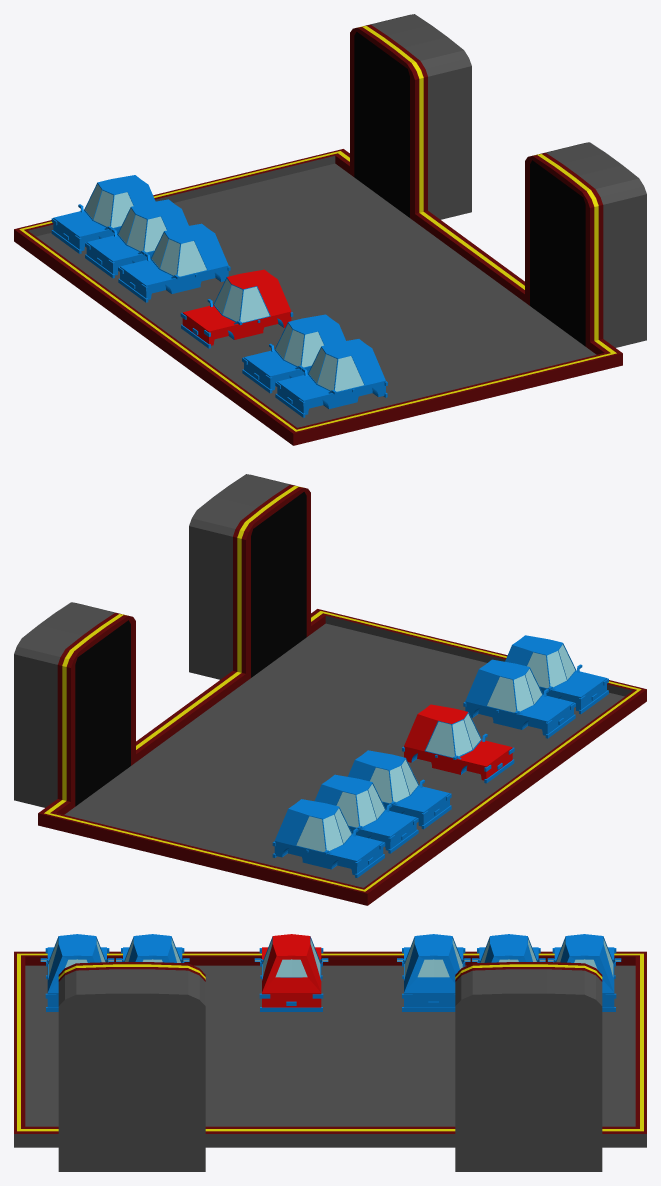
File: ParkingLot.fbx
3 renders of one model, top to bottom at view 1: azimuth 30°, elevation 25°; view 2: azimuth 150°, elevation 25°; view 3: azimuth 270°, elevation 25°, orthographic. The views are drawn at different scales.
Parts seen in each view (by area): view 1: Cube, Car.003, Car.002, Car.005, Car, Car.001, Car.004; view 2: Cube, Car, Car.005, Car.004, Car.001, Car.002, Car.003; view 3: Cube, Car.005, Car.002, Car, Car.003, Car.004, Car.001.
Boxes of the visible parts, x1,y1,x2,y2 form: Cube: [14, 14, 646, 445]; Car.003: [275, 339, 387, 417]; Car.002: [118, 223, 230, 302]; Car.005: [180, 269, 293, 348]; Car: [51, 175, 155, 253]; Car.001: [85, 199, 188, 278]; Car.004: [242, 314, 345, 393]; Cube: [14, 474, 646, 905]; Car: [272, 799, 385, 877]; Car.005: [402, 704, 514, 783]; Car.004: [463, 659, 575, 738]; Car.001: [314, 774, 418, 853]; Car.002: [348, 750, 451, 829]; Car.003: [505, 635, 608, 714]; Cube: [14, 951, 646, 1171]; Car.005: [254, 934, 328, 1011]; Car.002: [397, 934, 470, 1011]; Car: [547, 934, 621, 1011]; Car.003: [40, 934, 114, 1011]; Car.004: [116, 934, 189, 962]; Car.001: [472, 934, 545, 962].
Size of the model in its own units: 1483 by 597 by 1922.
